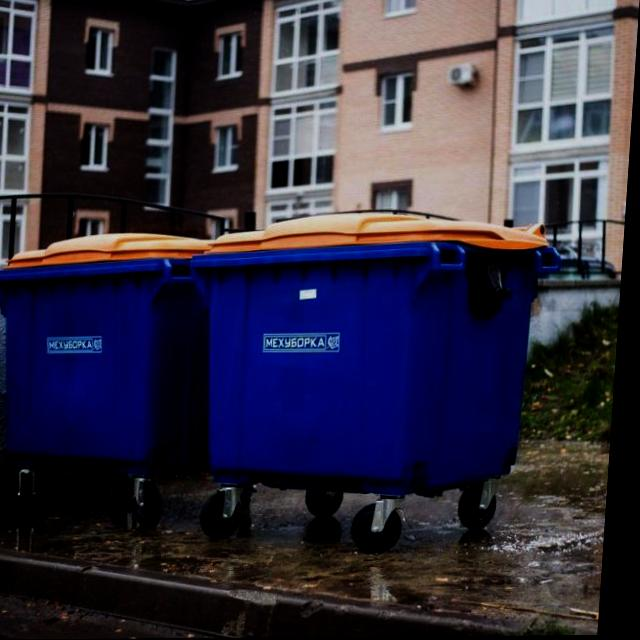Trash_Can_Closed: (183, 211, 567, 498), (0, 231, 229, 473)
